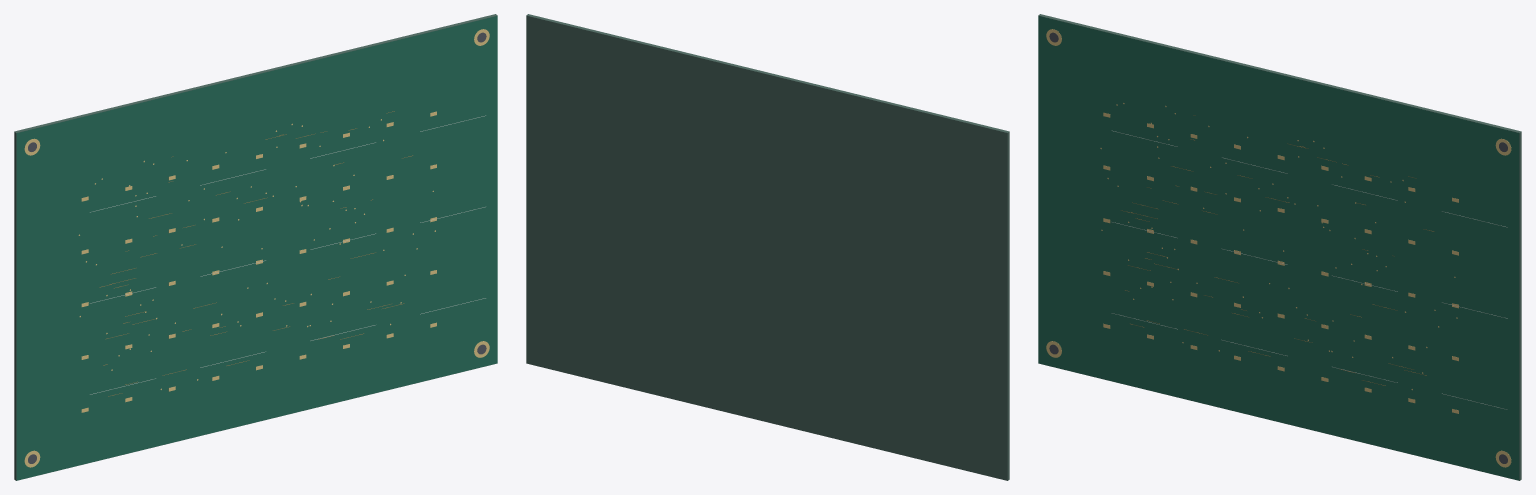
File: 071_L100_DNX8_Empty_FourLayer_PCB.glb
The picture shows the model from 3 angles, left to right: view 1: azimuth 30°, elevation 25°; view 2: azimuth 150°, elevation 25°; view 3: azimuth 330°, elevation 25°; orthographic projection.
Visible parts, largest first — view 1: L1_Soldermask_Surface, Four_Layer_FR4_Substrate; view 2: Four_Layer_FR4_Substrate; view 3: L1_Soldermask_Surface, Four_Layer_FR4_Substrate.
Part boxes in pixels (x1=…): L1_Soldermask_Surface: x1=16, y1=16, x2=497, y2=480; Four_Layer_FR4_Substrate: x1=14, y1=14, x2=497, y2=480; Four_Layer_FR4_Substrate: x1=526, y1=14, x2=1009, y2=480; L1_Soldermask_Surface: x1=1038, y1=16, x2=1519, y2=480; Four_Layer_FR4_Substrate: x1=1038, y1=14, x2=1521, y2=480.
Size of the model in its own units: 0.21 by 0.145 by 0.00175.
